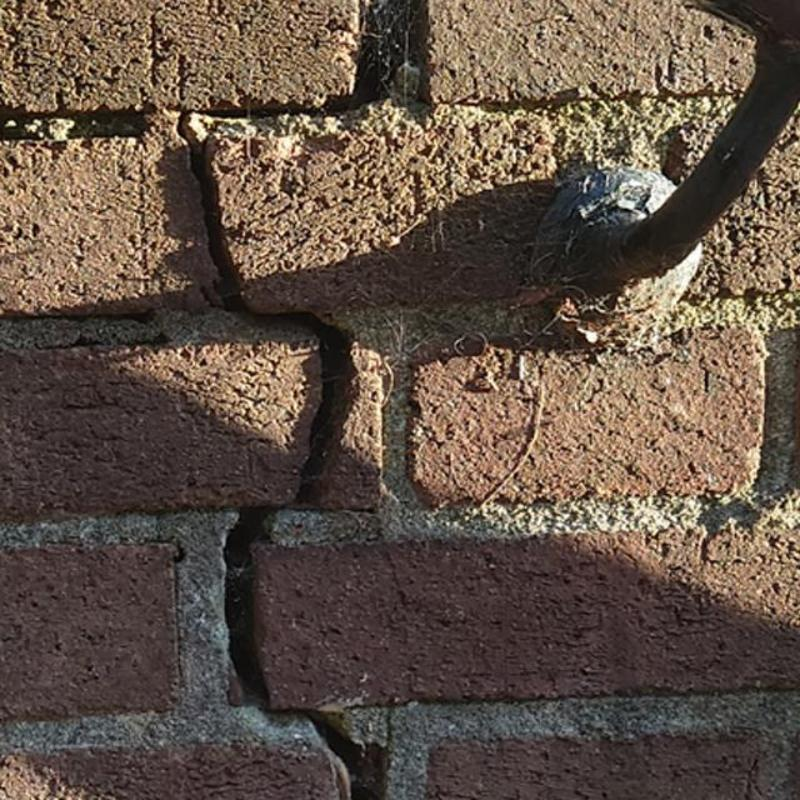pothole: (192, 145, 350, 505), (225, 509, 385, 799), (175, 44, 376, 155), (30, 335, 168, 351), (0, 312, 149, 324)
